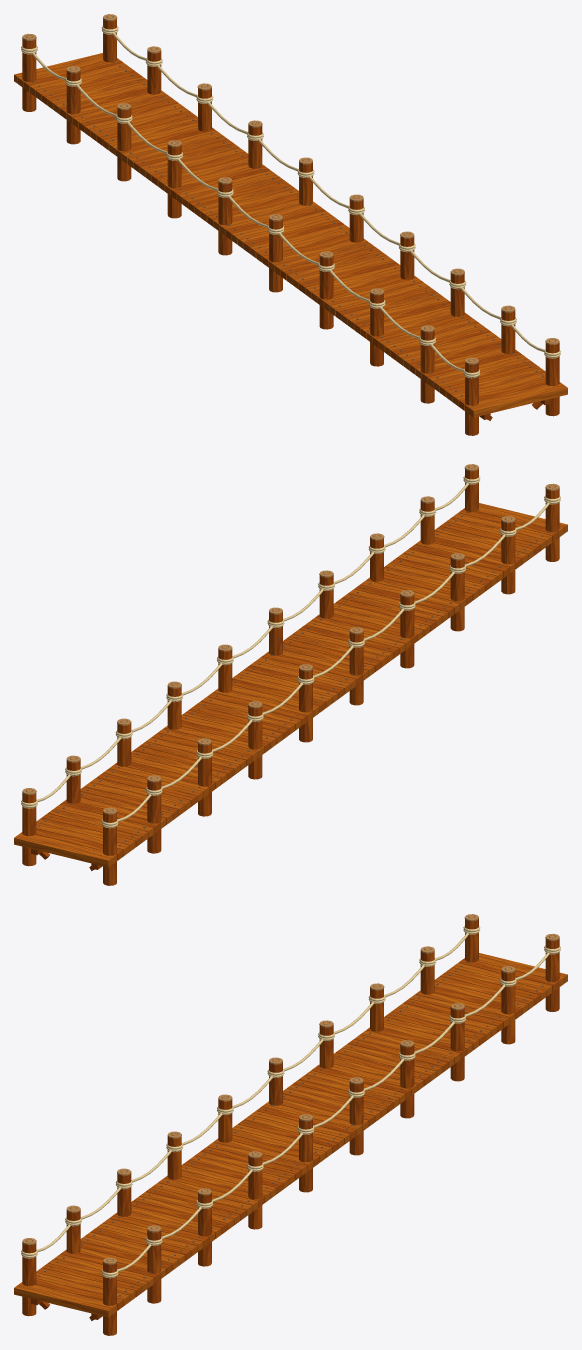
File: wooden-bridge-15.gltf
3 views of the same model, one above another, from view 1: azimuth 30°, elevation 25°; view 2: azimuth 150°, elevation 25°; view 3: azimuth 330°, elevation 25° (orthographic).
Visible parts, largest first — view 1: wooden-bridge-15; view 2: wooden-bridge-15; view 3: wooden-bridge-15.
Part boxes in pixels (x1,y1,x2,y2): wooden-bridge-15: (14, 14, 567, 435); wooden-bridge-15: (14, 464, 567, 885); wooden-bridge-15: (14, 914, 567, 1335).
Bounding box in the file's own units: 1.8 × 1.31 × 15.
Materials: 2 (1 with a texture image).
